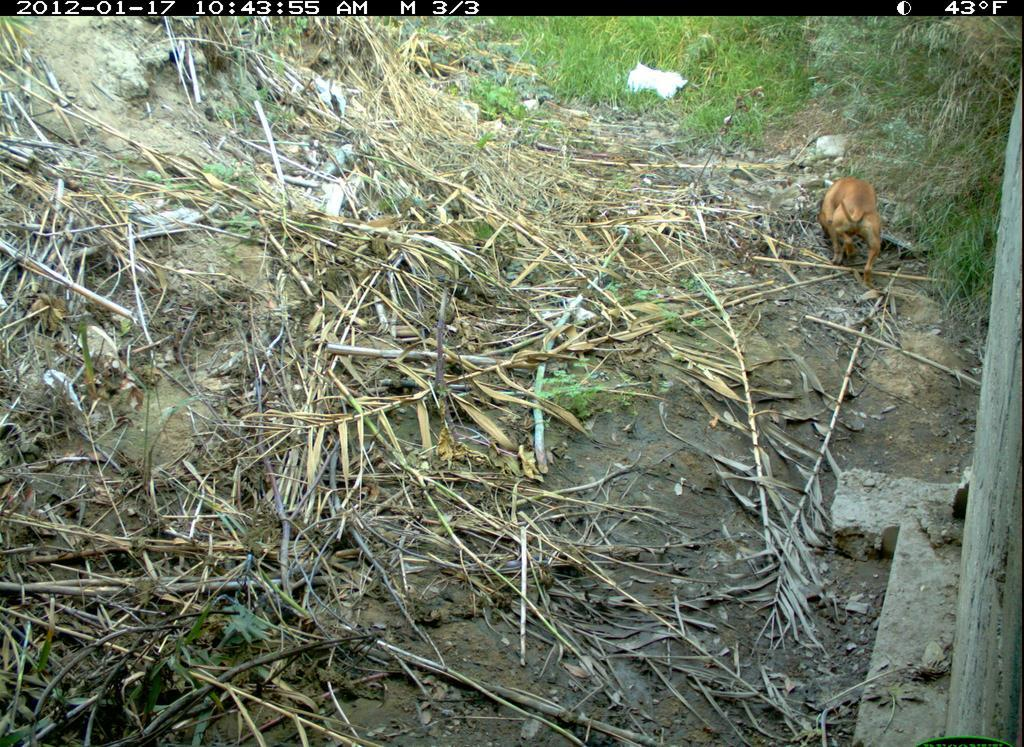dog: (807, 172, 893, 301)
